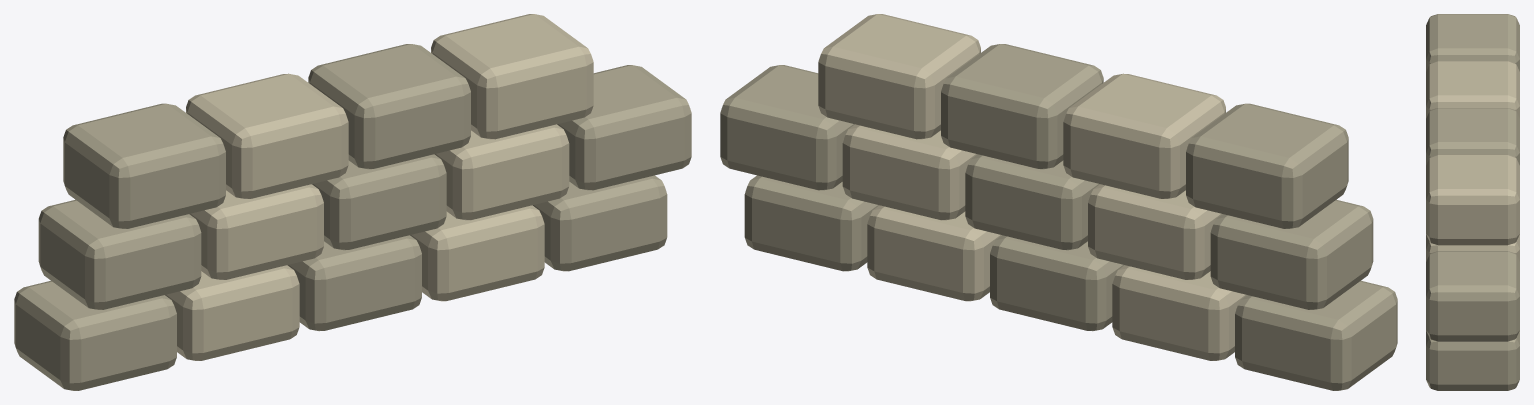
File: Dry_Stone_Wall_Barren.glb
3 renders of one model, left to right at view 1: azimuth 30°, elevation 25°; view 2: azimuth 150°, elevation 25°; view 3: azimuth 270°, elevation 25°, orthographic. The views are drawn at different scales.
Visible parts, largest first — view 1: Structure; view 2: Structure; view 3: Structure.
Boxes of the visible parts, box(x1,y1,x2,y2) form: Structure: box(14, 14, 691, 390); Structure: box(720, 14, 1397, 390); Structure: box(1426, 14, 1519, 390).
Bounding box in the file's own units: 3.34 × 1.12 × 0.55.
